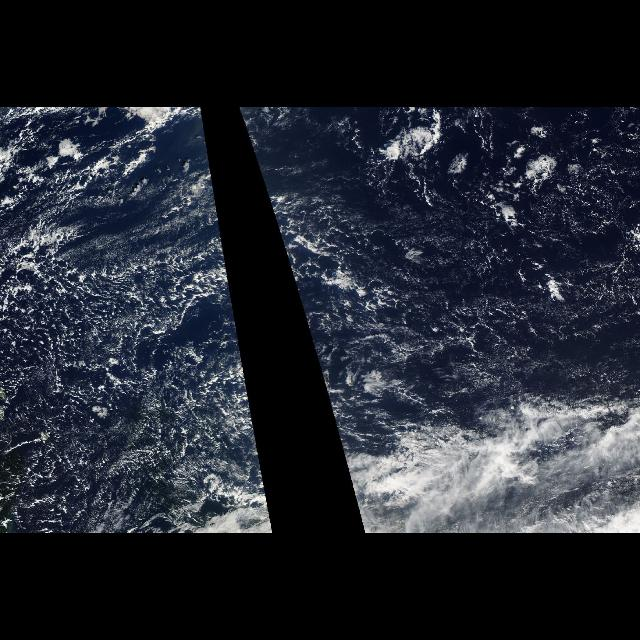Gravel: (260, 110, 640, 467), (2, 172, 274, 534)
